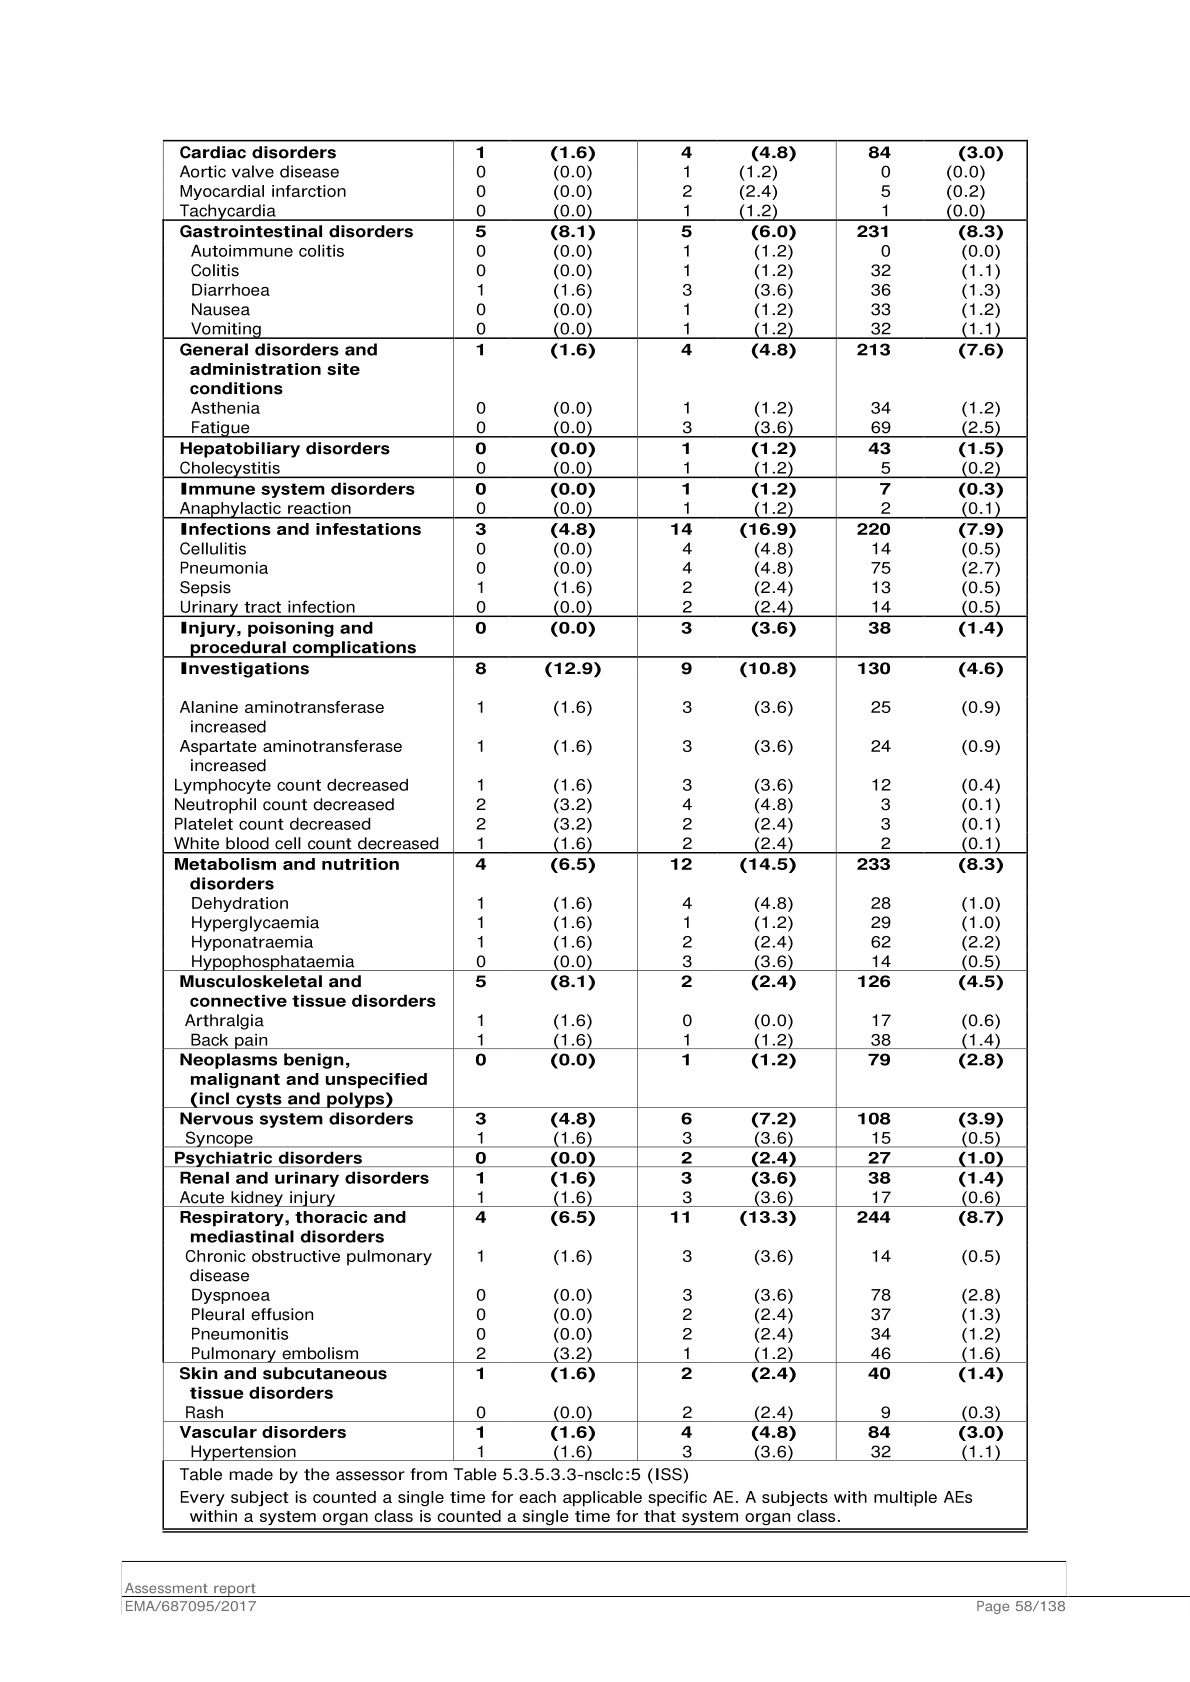partial_lined_merged_cells: (160, 135, 1032, 1535)
